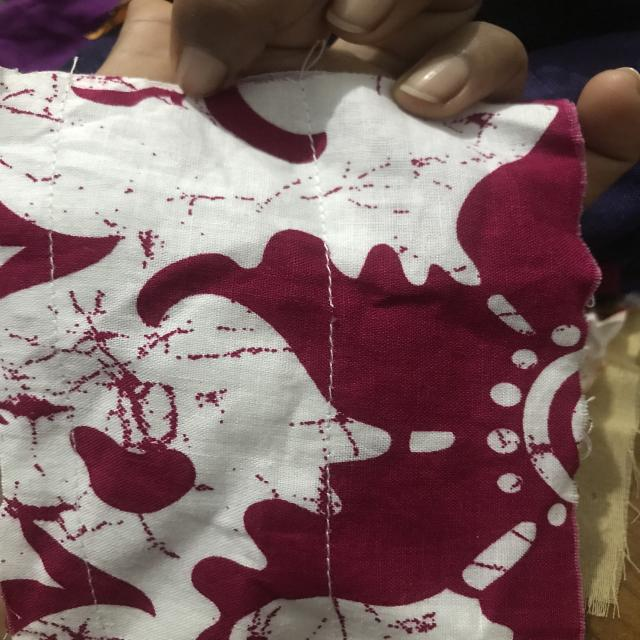good: (312, 284, 371, 323)
